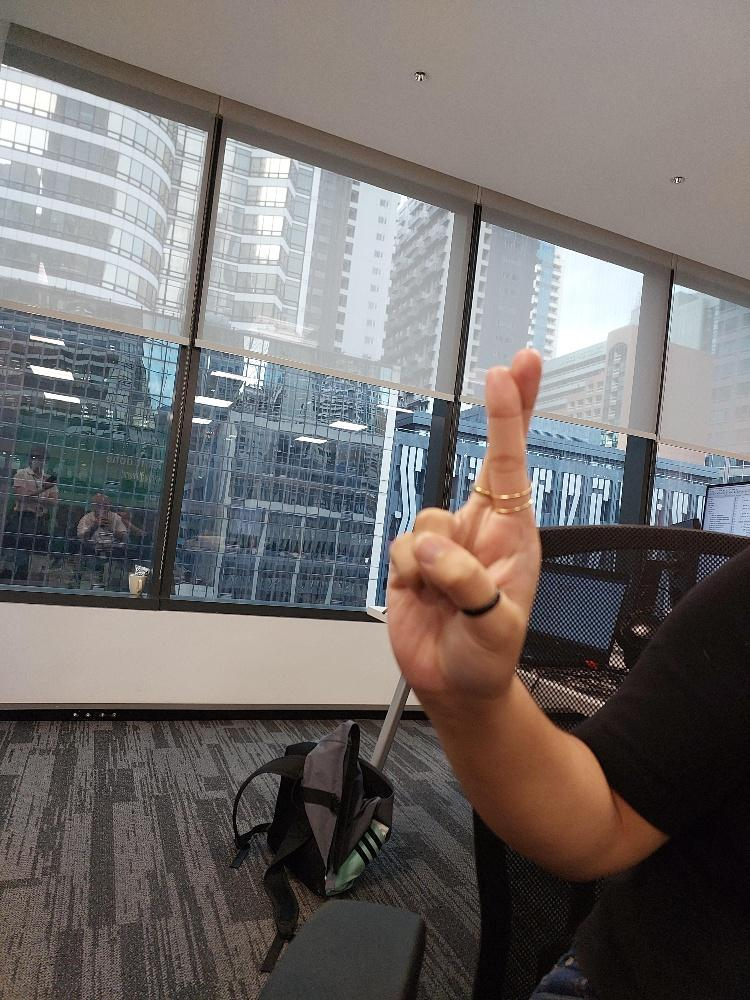r: (381, 344, 546, 701)
